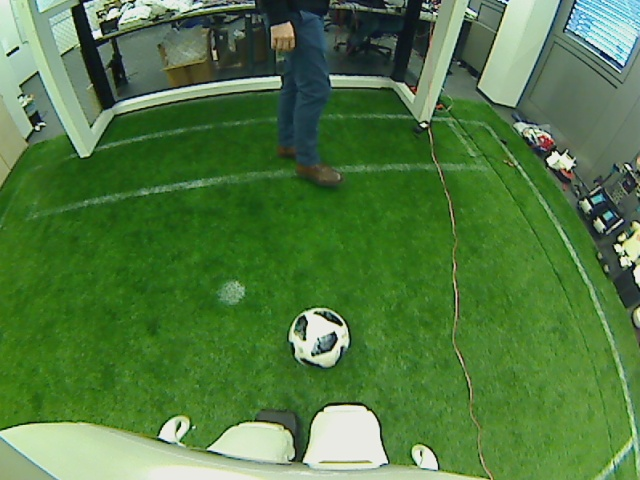ball: (286, 308, 349, 370)
